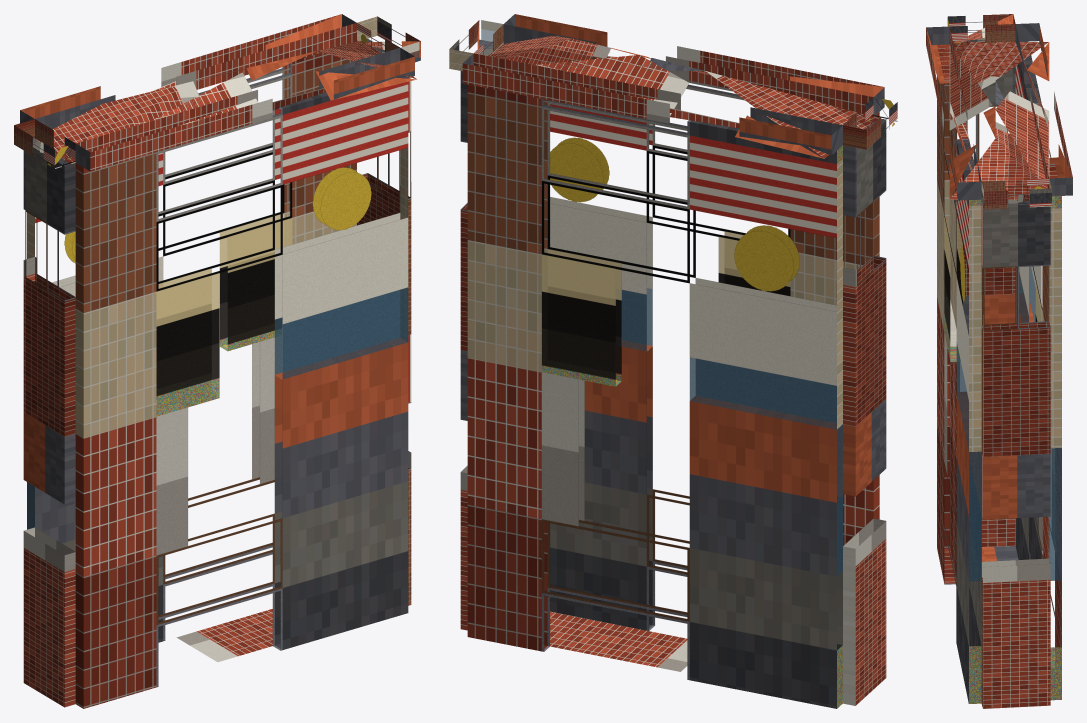
3 views of the same model, side by side, from view 1: azimuth 30°, elevation 25°; view 2: azimuth 150°, elevation 25°; view 3: azimuth 270°, elevation 25° (orthographic). The views are drawn at different scales.
Visible parts, largest first — view 1: 921911869__wall_0_xb, 921911869__wall_1_xb, 921911869__wall_2_xb, 921911869__wall_0_xf, 921911869__cornice_0, 921911869__cornice_2, 921911869__wall_2_xf, 921911869_roof_left_xb, 921911869__wall_3_xb, 921911869__base, 921911869_roof_front_xb, 921911869__cornice_1 (+2 smaller); view 2: 921911869__wall_2_xb, 921911869__wall_0_xb, 921911869__wall_1_xb, 921911869__wall_2_xf, 921911869__cornice_2, 921911869__cornice_0, 921911869__base, 921911869__wall_3_xb, 921911869_roof_back_xb, 921911869_roof_right_xb, 921911869_roof_left_xb, 921911869__wall_0_xf (+2 smaller); view 3: 921911869__wall_3_xb, 921911869__wall_0_xb, 921911869__wall_2_xb, 921911869__wall_1_xb, 921911869__wall_0_xf, 921911869_roof_back_xb, 921911869__wall_2_xf, 921911869_roof_right_xb, 921911869_roof_left_xb, 921911869__cornice_0, 921911869_roof_front_xb, 921911869__cornice_2 (+3 smaller).
Boxes of the visible parts, box(x1,y1,x2,y2) form: 921911869__wall_0_xb: box(75, 78, 408, 708); 921911869__wall_1_xb: box(23, 138, 75, 707); 921911869__wall_2_xb: box(27, 52, 356, 642); 921911869__wall_0_xf: box(156, 167, 407, 593); 921911869__cornice_0: box(75, 47, 414, 171); 921911869__cornice_2: box(20, 14, 356, 129); 921911869__wall_2_xf: box(27, 214, 291, 529); 921911869_roof_left_xb: box(36, 51, 315, 163); 921911869__wall_3_xb: box(357, 39, 411, 605); 921911869__base: box(176, 608, 272, 662); 921911869_roof_front_xb: box(71, 71, 416, 163); 921911869__cornice_1: box(14, 119, 75, 168); 921911869__wall_2_xb: box(467, 84, 842, 708); 921911869__wall_0_xb: box(548, 79, 879, 630); 921911869__wall_1_xb: box(843, 118, 886, 705); 921911869__wall_2_xf: box(542, 146, 842, 707); 921911869__cornice_2: box(462, 53, 842, 155); 921911869__cornice_0: box(503, 14, 884, 116); 921911869__base: box(550, 611, 687, 671); 921911869__wall_3_xb: box(460, 47, 492, 630); 921911869_roof_back_xb: box(534, 55, 823, 158); 921911869_roof_right_xb: box(488, 35, 704, 71); 921911869_roof_left_xb: box(611, 48, 878, 158); 921911869__wall_0_xf: box(556, 137, 790, 350); 921911869__wall_3_xb: box(981, 199, 1050, 708); 921911869__wall_0_xb: box(937, 44, 981, 703); 921911869__wall_2_xb: box(1015, 41, 1061, 700); 921911869__wall_1_xb: box(953, 37, 1015, 547); 921911869__wall_0_xf: box(944, 200, 981, 703); 921911869_roof_back_xb: box(995, 42, 1049, 188); 921911869__wall_2_xf: box(1019, 196, 1061, 699); 921911869_roof_right_xb: box(950, 81, 1042, 199); 921911869_roof_left_xb: box(953, 42, 1048, 137); 921911869__cornice_0: box(926, 26, 981, 200); 921911869_roof_front_xb: box(949, 45, 992, 199); 921911869__cornice_2: box(1015, 23, 1072, 196).
Bounding box in the file's own units: 0.5295 × 0.7375 × 0.1848.
Materials: 1 (1 with a texture image).
